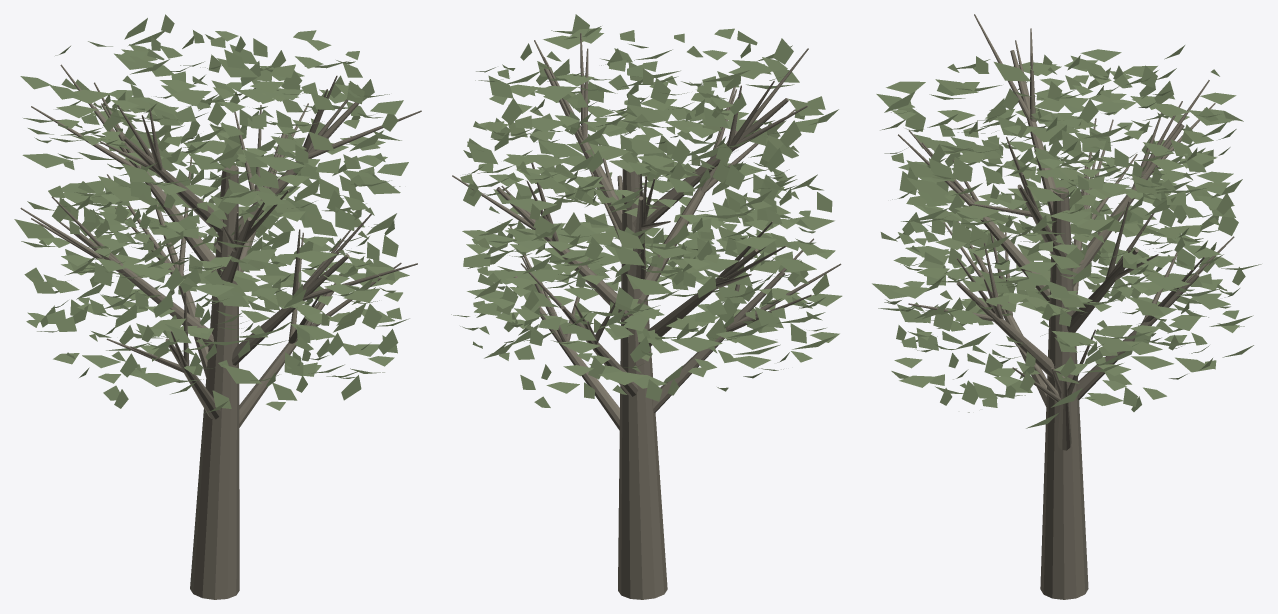
Rendered from forest_tree.glb.
The picture shows the model from 3 angles, left to right: view 1: azimuth 30°, elevation 25°; view 2: azimuth 150°, elevation 25°; view 3: azimuth 270°, elevation 25°; orthographic projection. The views are drawn at different scales.
Parts seen in each view (by area): view 1: Leaves, Body.009; view 2: Leaves, Body.009; view 3: Leaves, Body.009.
Boxes of the visible parts, <box> form: Leaves: <box>14,14,409,413</box>; Body.009: <box>20,64,421,599</box>; Leaves: <box>451,14,842,407</box>; Body.009: <box>452,33,841,599</box>; Leaves: <box>872,45,1261,428</box>; Body.009: <box>898,14,1234,599</box>.
Size of the model in its own units: 2.26 by 3.34 by 2.28.
